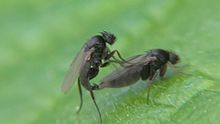phorid fly: (99, 43, 201, 101), (60, 26, 123, 114)
